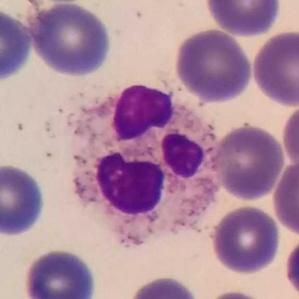Neutrophil: (63, 84, 223, 243)
RBC: (27, 0, 114, 79), (172, 26, 255, 104), (210, 122, 286, 202), (208, 203, 283, 276), (21, 245, 100, 299), (249, 28, 299, 108), (0, 161, 49, 239), (201, 0, 283, 38), (0, 5, 35, 86), (270, 157, 299, 237), (125, 273, 202, 299), (280, 101, 299, 170), (281, 233, 299, 298), (202, 288, 268, 299)
